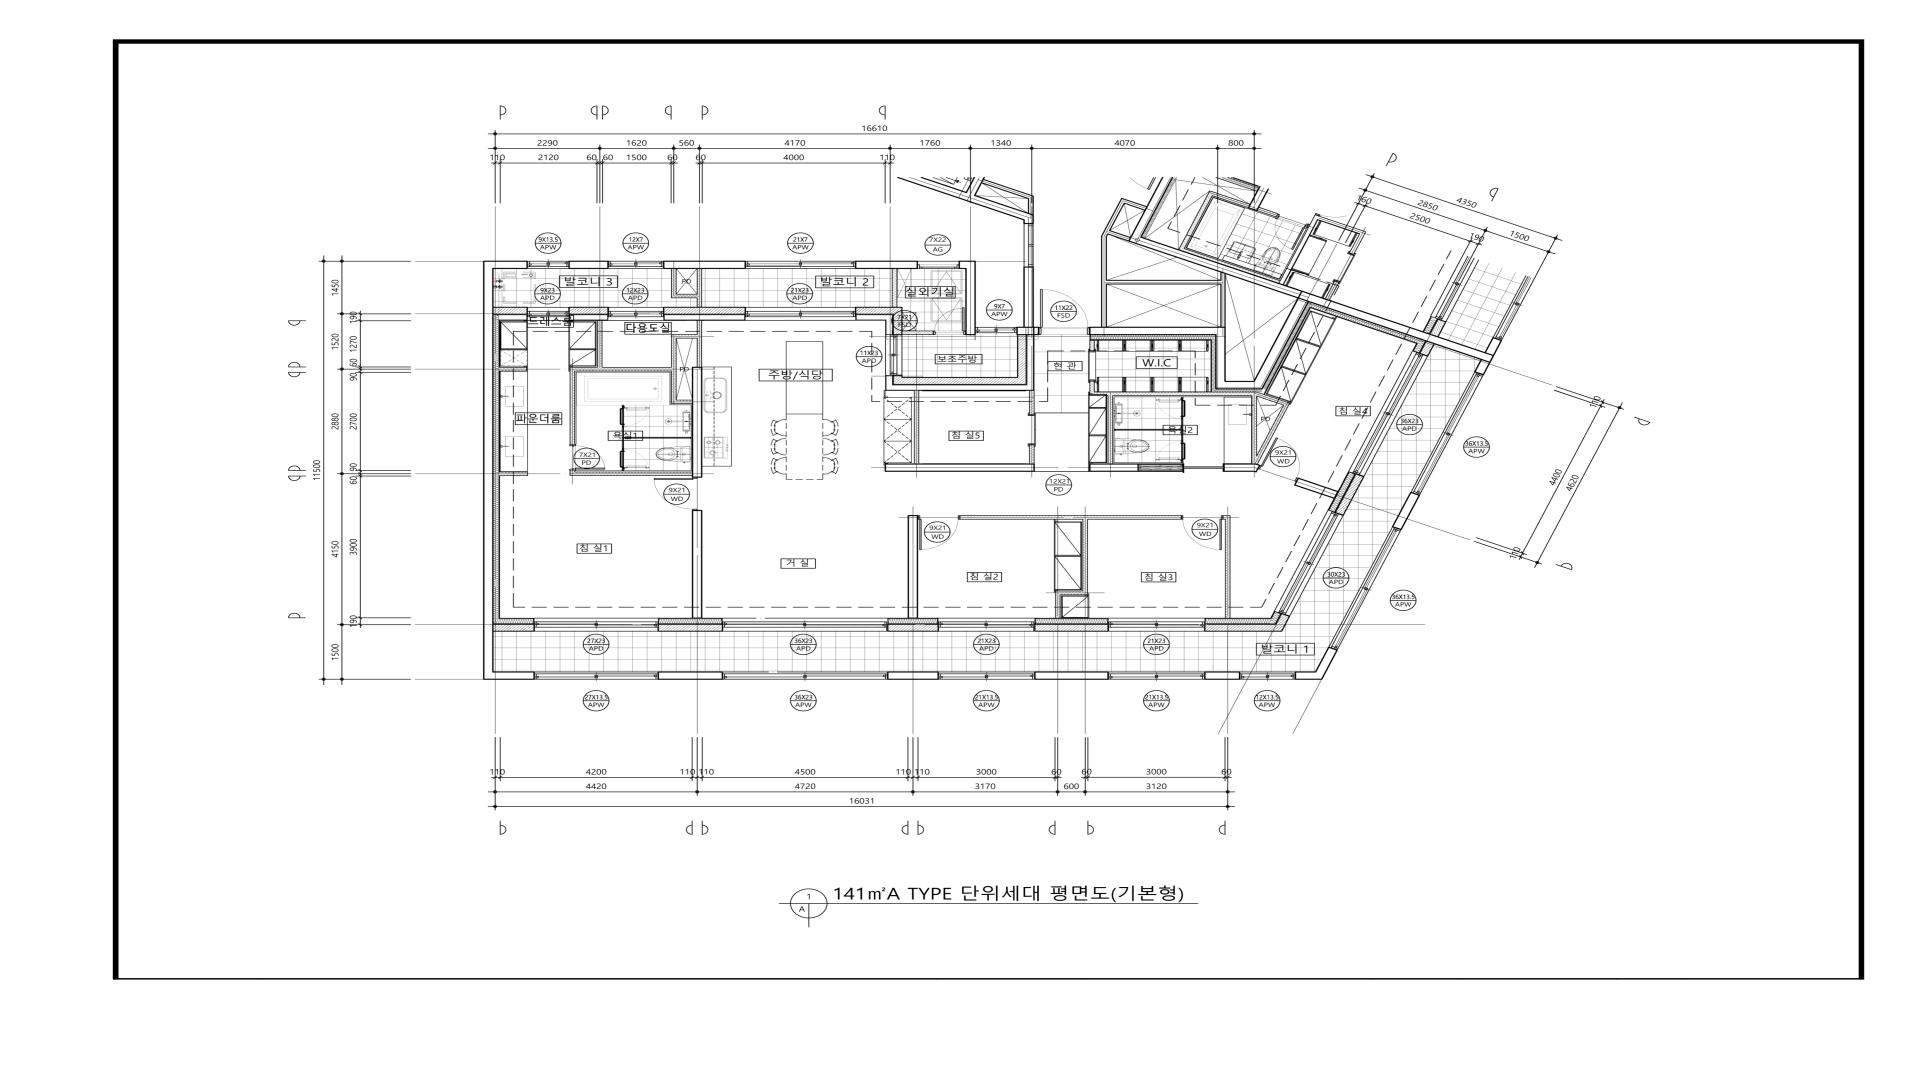door: (1258, 436, 1315, 481), (1039, 289, 1091, 335), (653, 477, 698, 510), (1182, 516, 1222, 550), (919, 516, 960, 550), (570, 444, 605, 471), (934, 307, 965, 335), (622, 406, 650, 427), (1155, 440, 1183, 460), (1155, 398, 1183, 418), (622, 448, 650, 468), (1184, 467, 1224, 468)
wall: (1298, 290, 1494, 363), (1138, 237, 1302, 298), (897, 177, 1023, 220), (1254, 298, 1308, 389), (483, 261, 493, 671), (1129, 177, 1174, 244), (1257, 401, 1290, 464), (885, 463, 1035, 472), (1335, 473, 1365, 516), (692, 510, 703, 617), (1089, 327, 1226, 335), (907, 516, 918, 617), (1393, 492, 1420, 530), (981, 179, 1034, 199), (692, 367, 702, 477), (902, 377, 1027, 385), (1294, 477, 1337, 498), (960, 516, 1182, 520), (1101, 202, 1125, 236), (1315, 646, 1338, 679), (965, 269, 976, 335), (663, 307, 745, 315), (663, 261, 745, 269), (1023, 266, 1034, 327), (1095, 392, 1251, 396), (1205, 624, 1282, 632), (1106, 280, 1220, 285), (658, 671, 723, 680), (1035, 671, 1109, 679), (1035, 624, 1108, 632), (1216, 335, 1226, 389), (570, 367, 671, 372), (1225, 520, 1230, 618), (658, 624, 723, 632), (856, 261, 918, 269), (1101, 236, 1106, 327), (887, 671, 939, 680), (575, 472, 692, 476), (1089, 463, 1139, 472), (1017, 335, 1027, 377), (483, 671, 535, 679), (1139, 463, 1184, 472), (887, 624, 939, 632), (570, 371, 575, 444), (1251, 392, 1257, 464), (1257, 392, 1286, 405), (914, 390, 919, 463), (1083, 520, 1088, 591), (856, 307, 902, 315), (1108, 396, 1113, 463), (1120, 198, 1146, 211), (1224, 463, 1261, 472), (671, 339, 676, 404), (967, 177, 985, 195), (1204, 671, 1240, 680), (568, 261, 609, 269), (493, 624, 534, 632), (568, 307, 608, 315), (1220, 272, 1225, 327), (1226, 381, 1262, 389), (493, 307, 527, 315), (493, 261, 527, 269), (1275, 613, 1290, 632), (891, 269, 898, 307), (1474, 360, 1490, 376), (696, 320, 702, 367), (597, 320, 603, 367), (1108, 231, 1130, 241), (1419, 342, 1435, 356), (1295, 671, 1323, 679), (891, 315, 902, 335), (696, 269, 702, 307), (1114, 429, 1182, 431), (624, 436, 691, 439), (1017, 327, 1039, 335), (1029, 390, 1035, 414), (498, 471, 527, 476), (498, 367, 527, 372), (671, 269, 676, 298), (1055, 591, 1060, 618), (1023, 211, 1034, 224), (959, 261, 976, 269), (671, 334, 696, 339), (902, 331, 934, 335), (1060, 591, 1088, 595), (1029, 444, 1034, 464), (1029, 195, 1034, 215), (893, 375, 902, 385), (676, 294, 698, 298), (1089, 381, 1095, 394), (676, 400, 692, 404), (1089, 340, 1095, 351), (1222, 516, 1230, 520), (1182, 418, 1183, 440), (622, 426, 624, 448), (570, 471, 575, 476)
window: (1348, 351, 1428, 476), (1328, 527, 1402, 650), (1411, 372, 1484, 496), (1274, 509, 1344, 616), (723, 617, 887, 632), (534, 618, 658, 632), (745, 307, 856, 320), (723, 671, 887, 679), (1108, 618, 1205, 632), (939, 618, 1035, 632), (534, 671, 658, 679), (745, 261, 856, 269), (939, 671, 1035, 679), (1109, 671, 1204, 679), (608, 307, 663, 320), (885, 335, 902, 376), (527, 307, 570, 320), (1023, 224, 1034, 266), (1240, 671, 1295, 679), (608, 261, 663, 269), (527, 261, 568, 269), (918, 261, 959, 269), (976, 327, 1017, 334)
